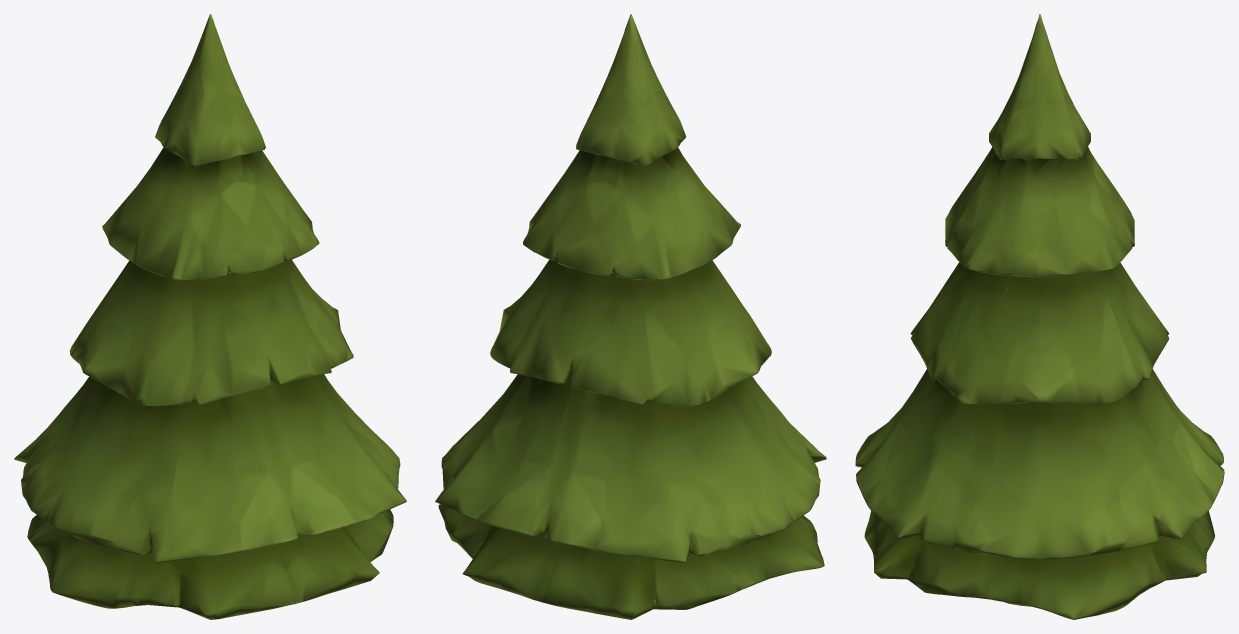
The model's file is Meshy_AI_Polygonal_Christmas_T_0513104123_texture.fbx.
The picture shows the model from 3 angles, left to right: view 1: azimuth 30°, elevation 25°; view 2: azimuth 150°, elevation 25°; view 3: azimuth 270°, elevation 25°; orthographic projection.
Parts seen in each view (by area): view 1: Mesh1.0; view 2: Mesh1.0; view 3: Mesh1.0.
Part boxes in pixels (x1,y1,x2,y2): Mesh1.0: [14, 14, 406, 619]; Mesh1.0: [435, 14, 826, 619]; Mesh1.0: [855, 14, 1224, 619].
Size of the model in its own units: 124 by 191 by 113.
1 material, 1 textured.
